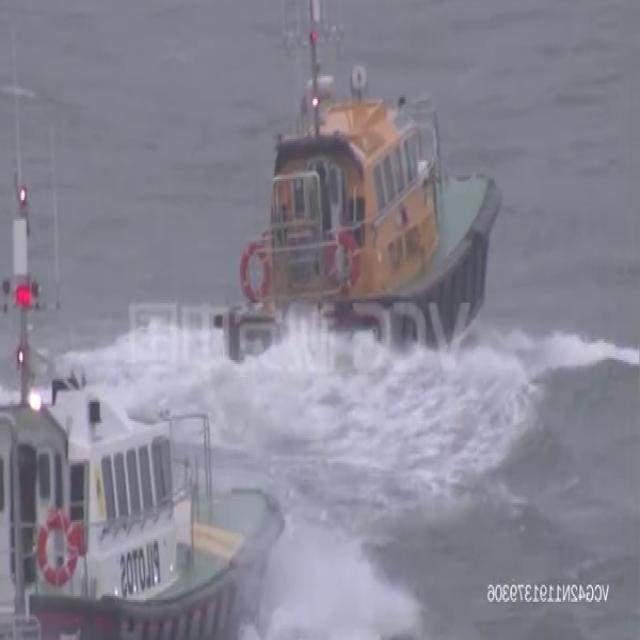houseboat: (0, 164, 296, 640), (226, 0, 506, 370)
